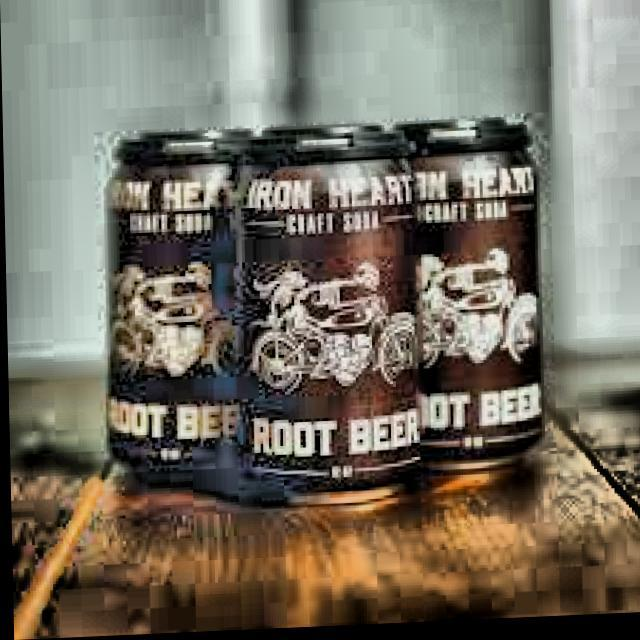Aluminum Can: (226, 122, 426, 515), (390, 118, 547, 484), (98, 123, 248, 492)
